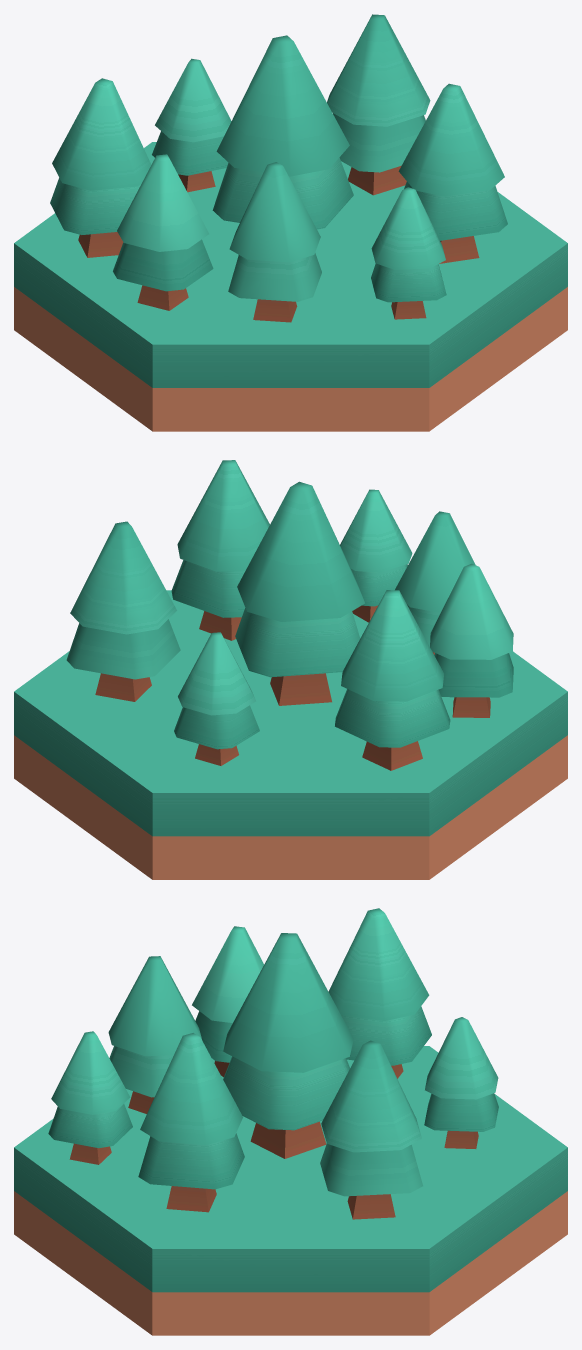
Rendered from grass-forest.glb.
3 views of the same model, one above another, from view 1: azimuth 30°, elevation 25°; view 2: azimuth 150°, elevation 25°; view 3: azimuth 270°, elevation 25° (orthographic).
Visible parts, largest first — view 1: grass-forest; view 2: grass-forest; view 3: grass-forest.
Part boxes in pixels (x1,y1,x2,y2): grass-forest: [14, 14, 567, 431]; grass-forest: [14, 460, 567, 879]; grass-forest: [14, 908, 567, 1335].
Size of the model in its own units: 1 by 0.675 by 1.15.
1 material, 1 textured.
